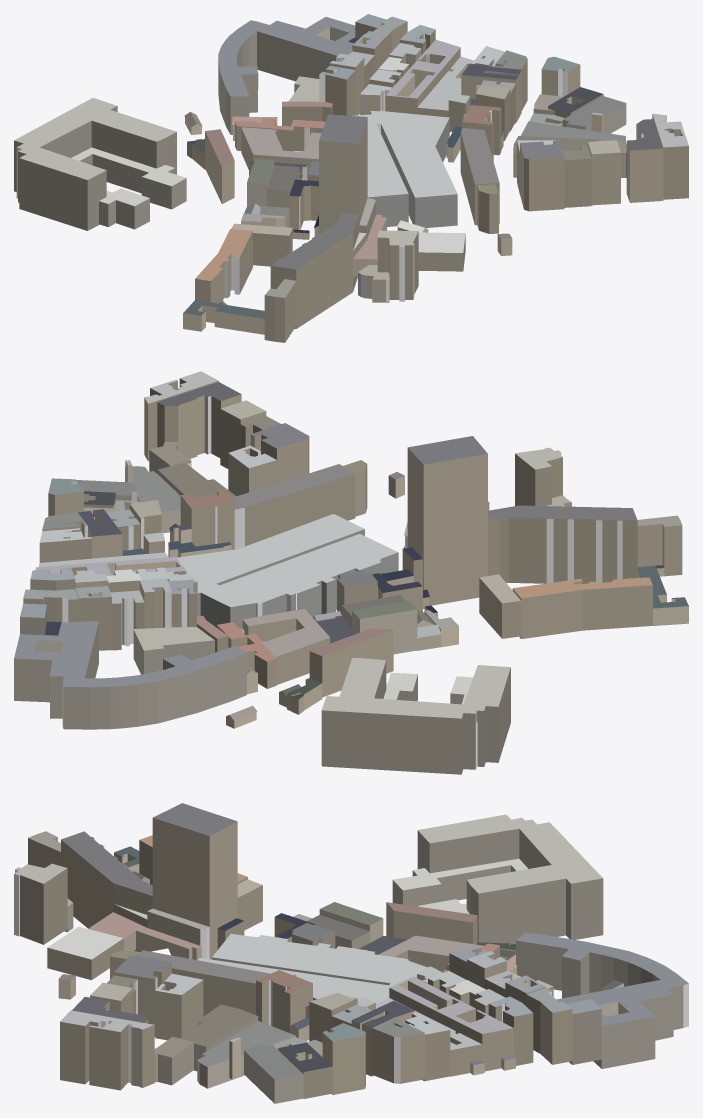
3 views of the same model, one above another, from view 1: azimuth 30°, elevation 25°; view 2: azimuth 150°, elevation 25°; view 3: azimuth 270°, elevation 25° (orthographic). The views are drawn at different scales.
Visible parts, largest first — view 1: tuile; view 2: tuile; view 3: tuile.
Boxes of the visible parts, x1,y1,x2,y2 form: tuile: (14,14,688,342); tuile: (14,371,688,774); tuile: (14,803,688,1103).
Size of the model in its own units: 284 by 72.98 by 292.
